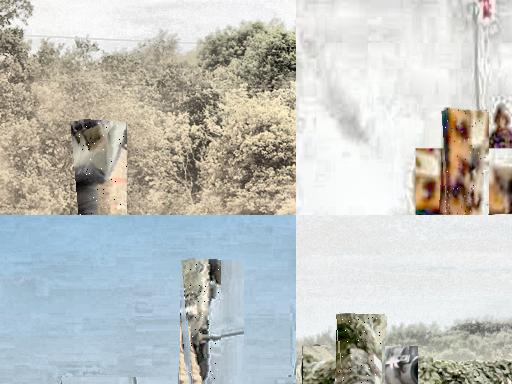tanks: (445, 108, 489, 215), (80, 120, 127, 216), (188, 260, 222, 384), (340, 314, 379, 384), (424, 363, 512, 384)
